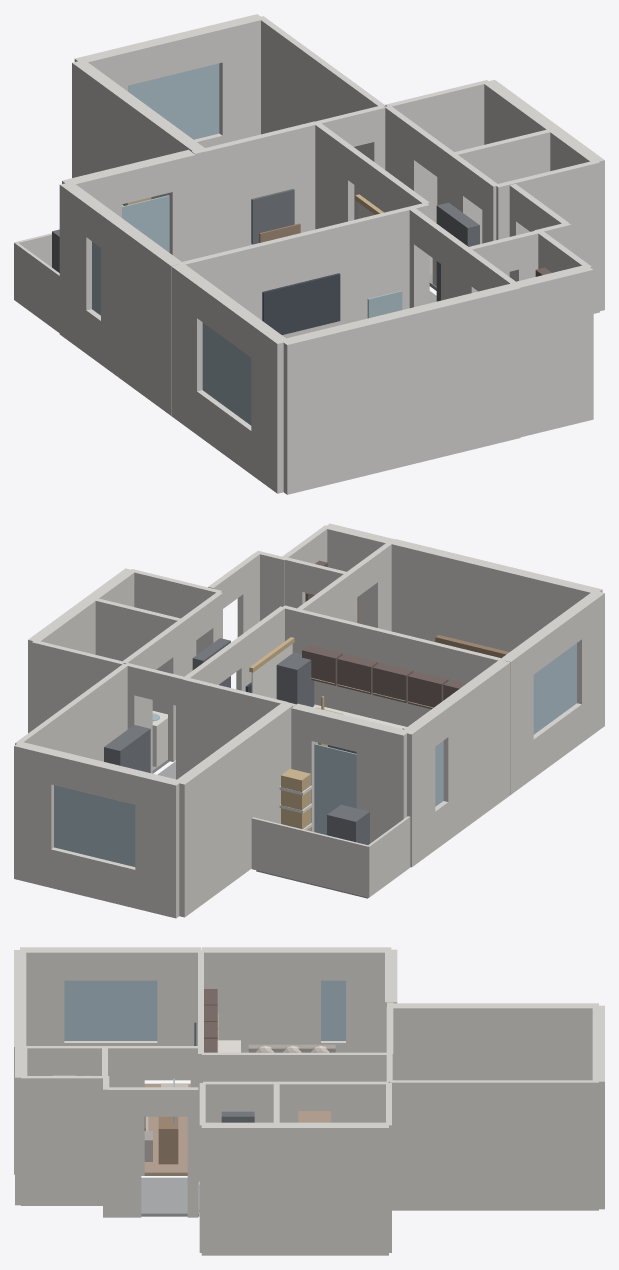
Rendered from kvartira-warm-two-daily.glb.
3 renders of one model, top to bottom at view 1: azimuth 30°, elevation 25°; view 2: azimuth 150°, elevation 25°; view 3: azimuth 270°, elevation 25°, orthographic. The views are drawn at different scales.
Parts seen in each view (by area): view 1: wall_w_l_s_166_612_0.0, wall_w_dividing_168_644_0.0, wall_w_closet_s_612_752_0.0, wall_w_k_w_559_791_0.0, wall_w_top_s_426_660_0.0, wall_w_top_w_20_423_0.0, wall_w_top_e_20_425_0.0, wall_w_wc_s_777_971_0.0, wall_w_l_w_1057_1143_0.0, wall_w_top_n_691_771_0.0, wall_w_bath_n_777_971_0.0, wall_w_k_w_423_511_0.0 (+40 smaller); view 2: wall_w_l_s_166_612_0.0, wall_w_top_w_20_423_0.0, wall_w_dividing_168_644_0.0, wall_w_k_w_559_791_0.0, wall_w_top_n_422_510_0.0, wall_w_log_n_159_409_0.0, wall_w_top_n_691_771_0.0, wall_w_top_e_20_425_0.0, wall_w_top_n_510_691_0.8, wall_w_k_n1_165_266_0.0, wall_w_k_n2_408_643_0.0, wall_w_bath_n_777_971_0.0 (+51 smaller); view 3: wall_w_top_e_20_425_0.0, wall_w_bath_e_427_791_0.0, wall_w_top_w_20_423_0.0, wall_w_k_w_559_791_0.0, wall_w_closet_e_978_1141_0.0, wall_w_l_w_877_1057_0.8, wall_w_entry_e_908_972_0.0, wall_w_l_w_792_877_0.0, wall_w_k_w_423_511_0.0, wall_w_l_w_1057_1143_0.0, wall_w_l_w_877_1057_2.1, wall_w_k_e_625_790_0.0 (+28 smaller).
Part boxes in pixels (box(x1,y1,x2,y2)): wall_w_l_s_166_612_0.0: box(281, 283, 520, 494); wall_w_dividing_168_644_0.0: box(178, 202, 429, 338); wall_w_closet_s_612_752_0.0: box(516, 265, 593, 437); wall_w_k_w_559_791_0.0: box(101, 212, 182, 415); wall_w_top_s_426_660_0.0: box(204, 119, 327, 256); wall_w_top_w_20_423_0.0: box(72, 60, 204, 199); wall_w_top_e_20_425_0.0: box(258, 16, 385, 219); wall_w_wc_s_777_971_0.0: box(495, 161, 599, 313); wall_w_l_w_1057_1143_0.0: box(251, 322, 289, 493); wall_w_top_n_691_771_0.0: box(216, 14, 263, 143); wall_w_bath_n_777_971_0.0: box(385, 80, 489, 223); wall_w_k_w_423_511_0.0: box(59, 183, 98, 353); wall_w_l_s_166_612_0.0: box(390, 539, 602, 651); wall_w_top_w_20_423_0.0: box(174, 703, 292, 917); wall_w_dividing_168_644_0.0: box(282, 605, 505, 726); wall_w_k_w_559_791_0.0: box(437, 659, 510, 840); wall_w_top_n_422_510_0.0: box(135, 771, 181, 918); wall_w_log_n_159_409_0.0: box(251, 817, 368, 897); wall_w_top_n_691_771_0.0: box(14, 742, 56, 887); wall_w_top_e_20_425_0.0: box(15, 663, 127, 761); wall_w_top_n_510_691_0.8: box(54, 785, 135, 866); wall_w_k_n1_165_266_0.0: box(356, 719, 409, 843); wall_w_k_n2_408_643_0.0: box(183, 679, 295, 774); wall_w_bath_n_777_971_0.0: box(32, 641, 124, 730); wall_w_top_e_20_425_0.0: box(390, 1080, 598, 1210); wall_w_bath_e_427_791_0.0: box(201, 1122, 388, 1255); wall_w_top_w_20_423_0.0: box(391, 1003, 598, 1080); wall_w_k_w_559_791_0.0: box(201, 947, 320, 1052); wall_w_closet_e_978_1141_0.0: box(21, 1076, 104, 1205); wall_w_l_w_877_1057_0.8: box(64, 980, 157, 1040); wall_w_entry_e_908_972_0.0: box(108, 1087, 141, 1217); wall_w_l_w_792_877_0.0: box(157, 947, 200, 1080); wall_w_k_w_423_511_0.0: box(346, 947, 391, 1052); wall_w_l_w_1057_1143_0.0: box(20, 947, 64, 1045); wall_w_l_w_877_1057_2.1: box(64, 947, 157, 980); wall_w_k_e_625_790_0.0: box(202, 1052, 286, 1111).
Bounding box in the file's own units: 8.24 × 2.77 × 11.41.
